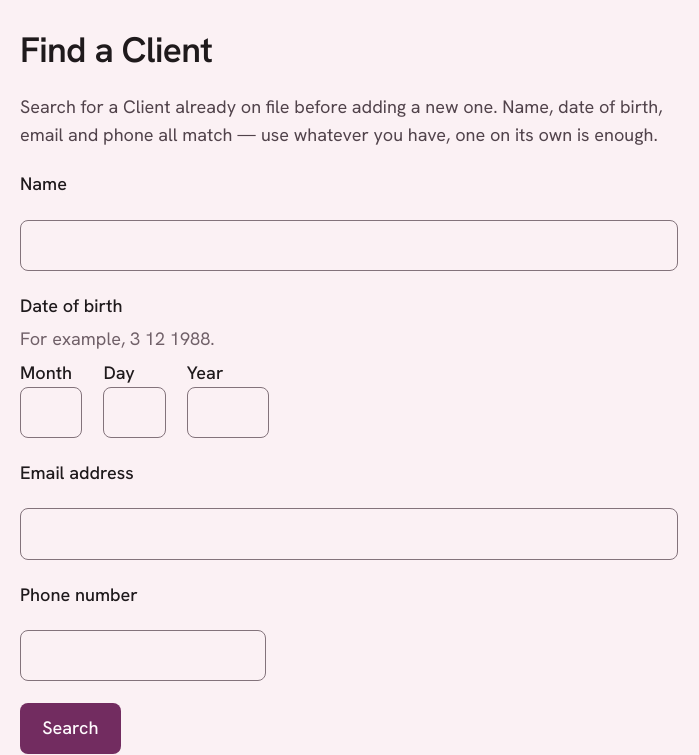
Test: the search that fronts intake (#498) › says a one-word name carries onto the name question (#1716)
The image size is (699, 755).
Type "Nadia" into the field labelled "Name" at (349, 245), box x1=20 y1=220 x2=678 y2=271
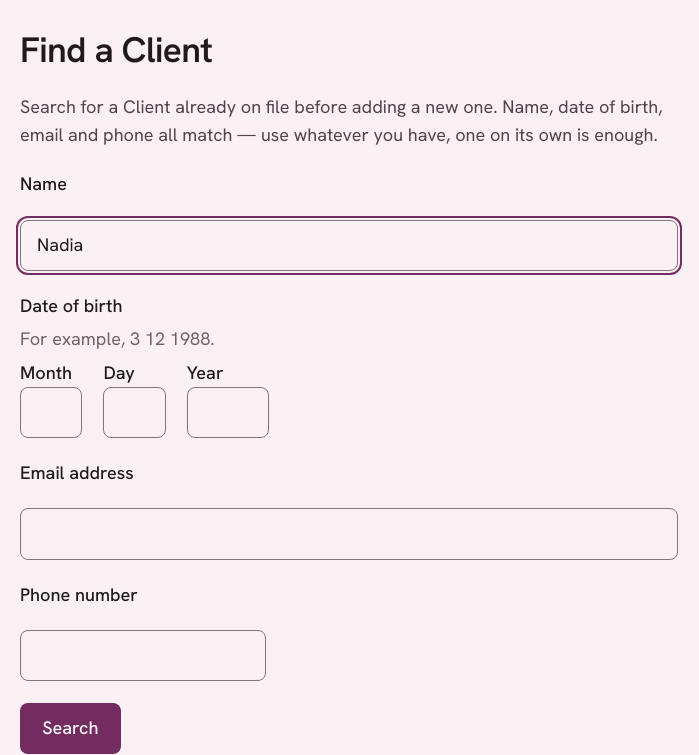
Click the button "Search" at (70, 728), box x1=20 y1=703 x2=121 y2=754
(page scrolled)
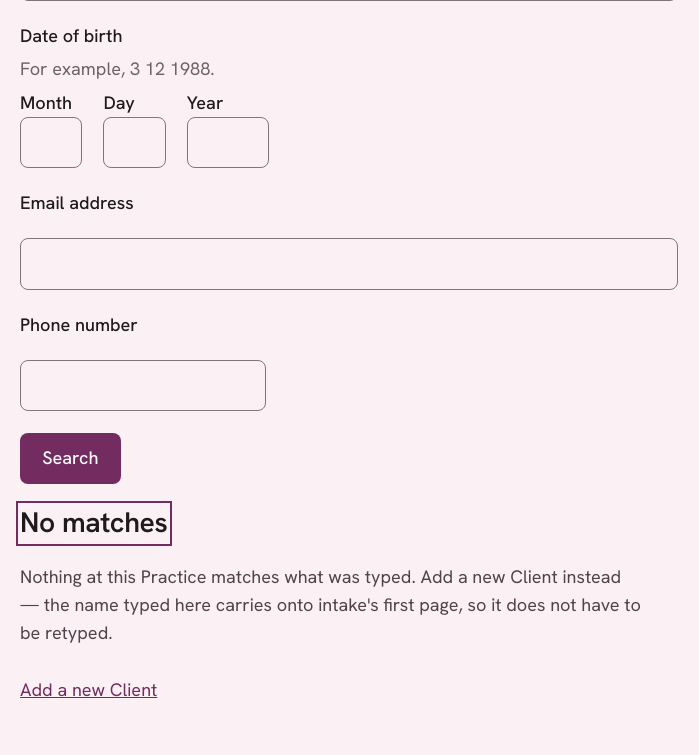
Expected: the text "the name typed here carries onto intake" is shown, x1=20 y1=565 x2=641 y2=644
